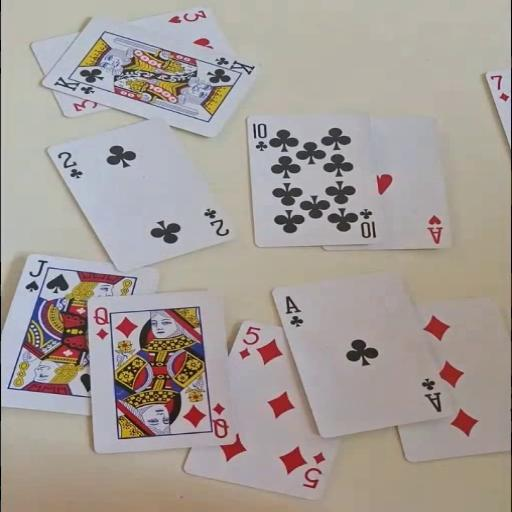10: (208, 401, 230, 439), (358, 207, 377, 239), (250, 121, 269, 152)
2: (200, 206, 230, 237), (54, 150, 84, 180)
3: (165, 8, 208, 24)
5: (299, 449, 328, 490), (236, 323, 264, 360)
7: (488, 73, 510, 102)
A: (419, 376, 444, 413), (282, 294, 306, 328), (425, 213, 444, 244)
J: (22, 257, 50, 293)
K: (50, 74, 99, 96), (212, 55, 257, 76)
Q: (208, 400, 230, 440), (92, 305, 110, 341)
